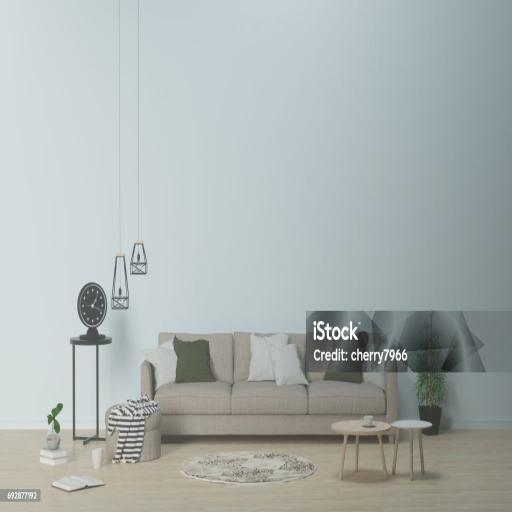back_cushion: (143, 324, 368, 388)
base: (161, 414, 363, 435), (373, 413, 396, 422)
left_arm: (363, 333, 397, 420)
right_arm: (141, 361, 154, 398)
seat_cushion: (155, 381, 386, 414)
stallion-sofa: (141, 323, 397, 435)
